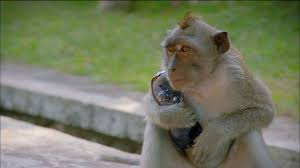monkey: (112, 6, 273, 167)
